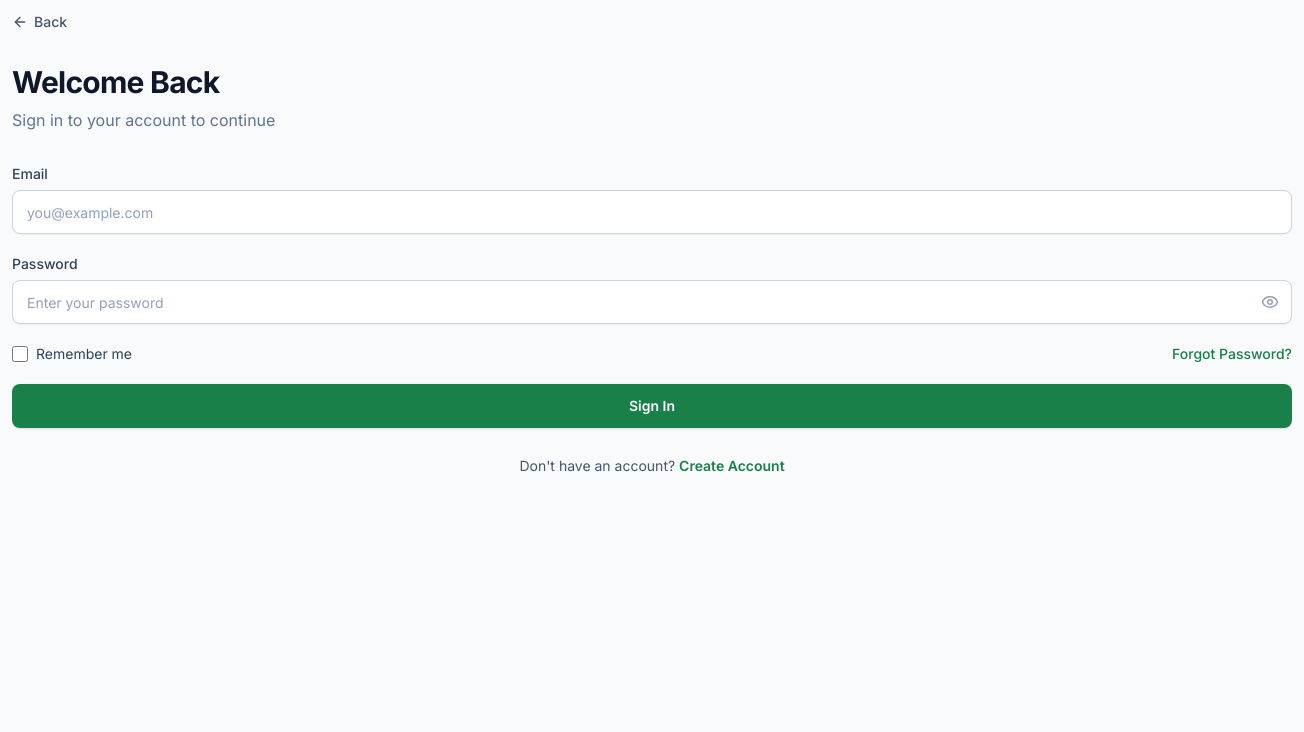
it: LoginPage › shows a generic error for wrong credentials (401)
In the field labelled "Email": (652, 212) left=12, top=190, right=1292, bottom=234, type "customer@example.com"
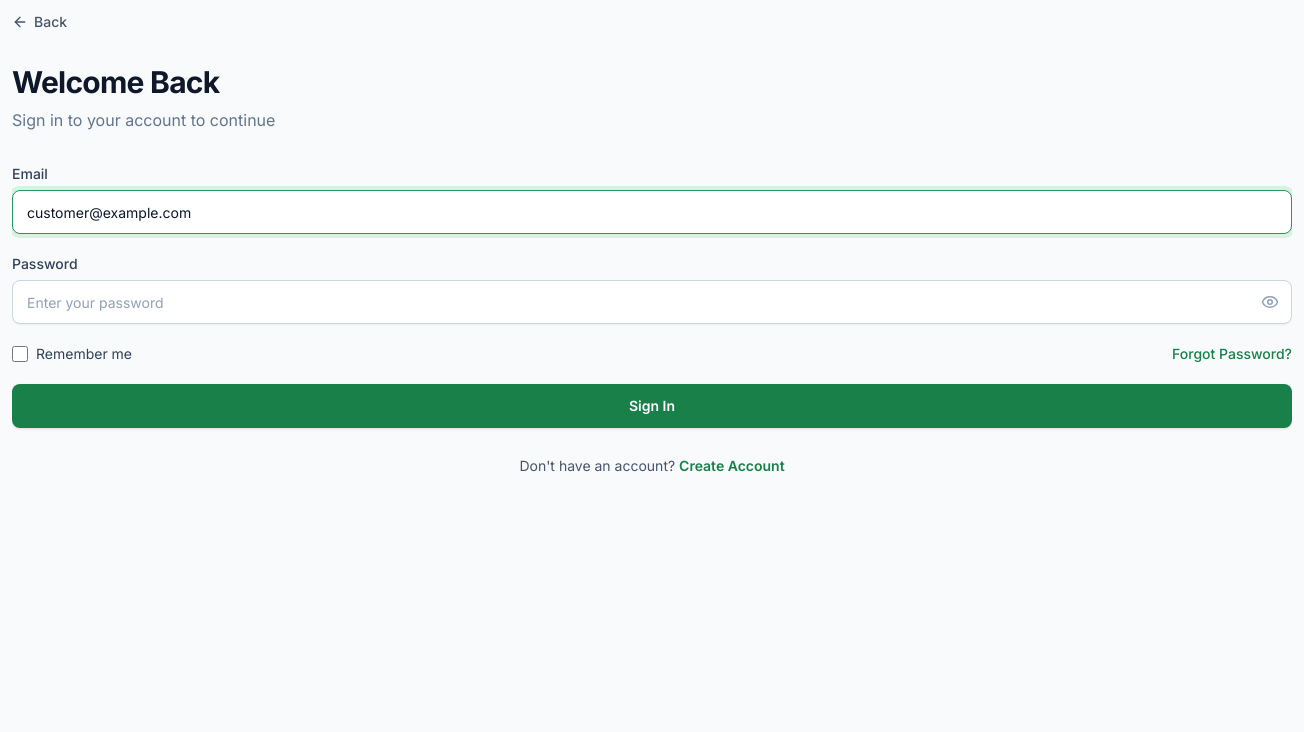
In the password field labelled "Password": (652, 302) left=12, top=280, right=1292, bottom=324, type "wrongpassword1"
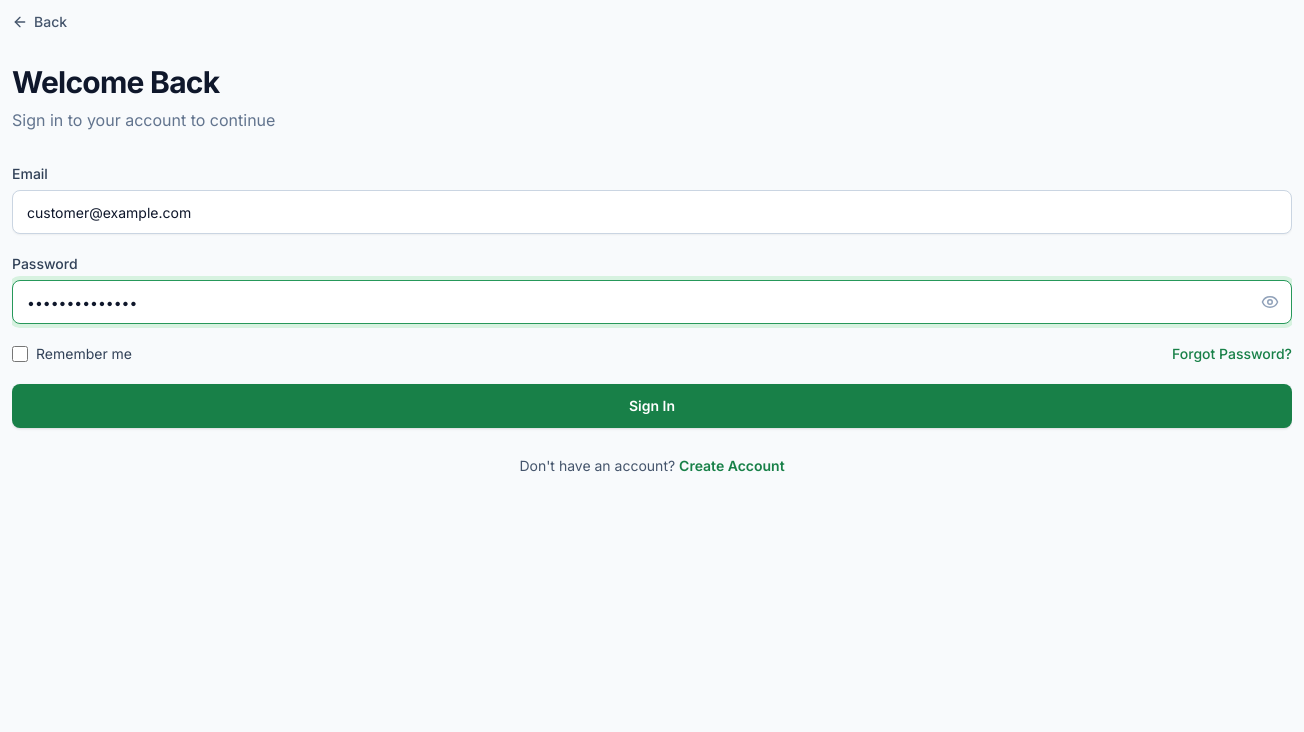
Click the button "Sign In": (652, 406) left=12, top=384, right=1292, bottom=428
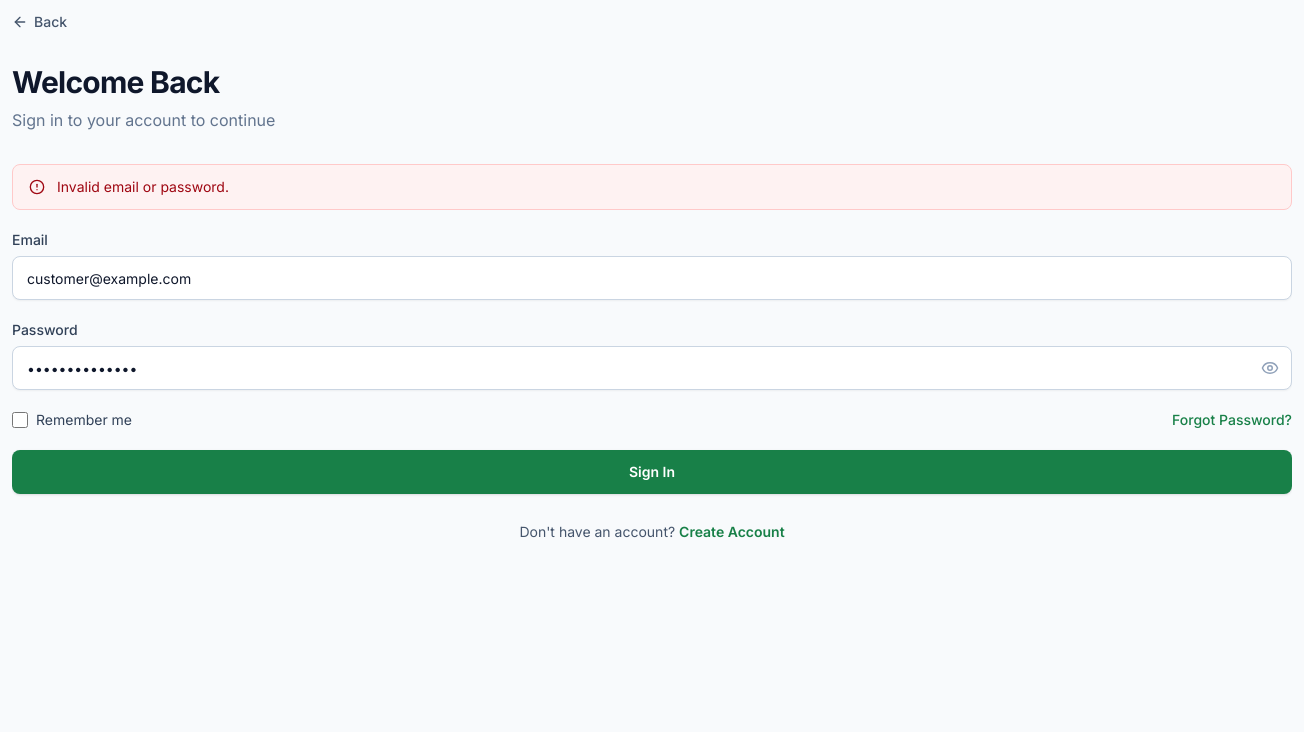
expect the text "Invalid email or password." is shown: met, box left=57, top=177, right=229, bottom=197
